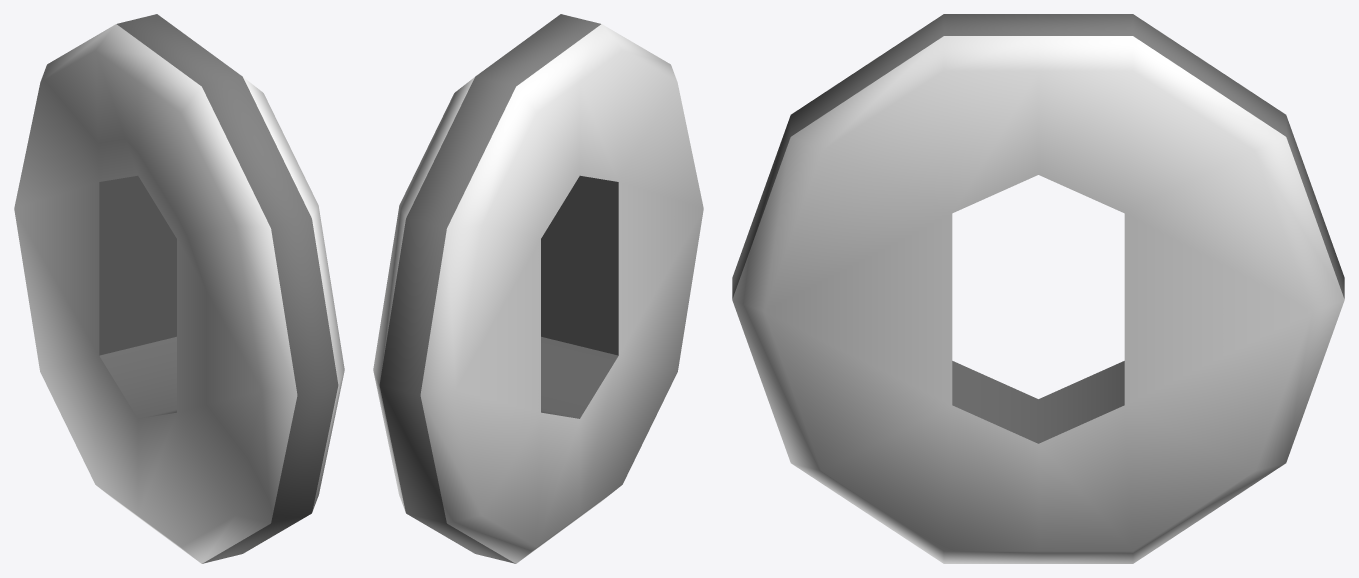
Rendered from coin.glb.
3 views of the same model, side by side, from view 1: azimuth 30°, elevation 25°; view 2: azimuth 150°, elevation 25°; view 3: azimuth 270°, elevation 25° (orthographic). The views are drawn at different scales.
Parts seen in each view (by area): view 1: Cylinder; view 2: Cylinder; view 3: Cylinder.
Part boxes in pixels (left/top/right/bottom): Cylinder: left=14, top=14, right=344, bottom=563; Cylinder: left=373, top=14, right=703, bottom=563; Cylinder: left=732, top=14, right=1344, bottom=563.
Size of the model in its own units: 0.3451 by 1.9 by 2.
Materials: 1 (1 with a texture image).
